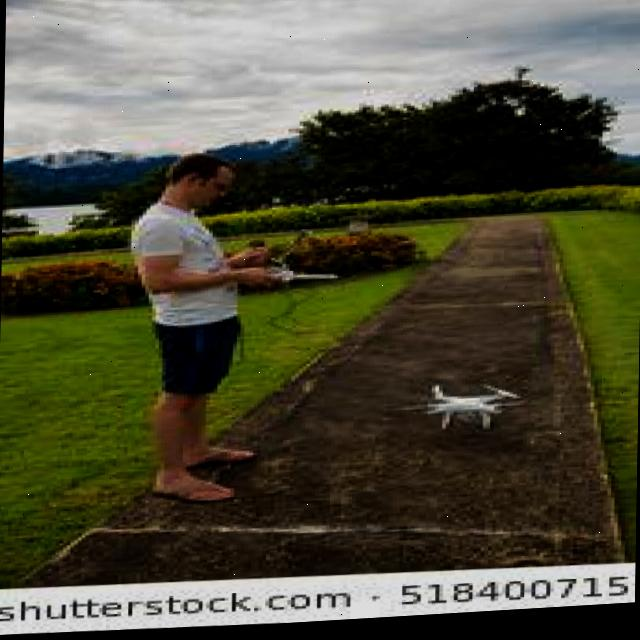drone: (368, 356, 544, 482)
